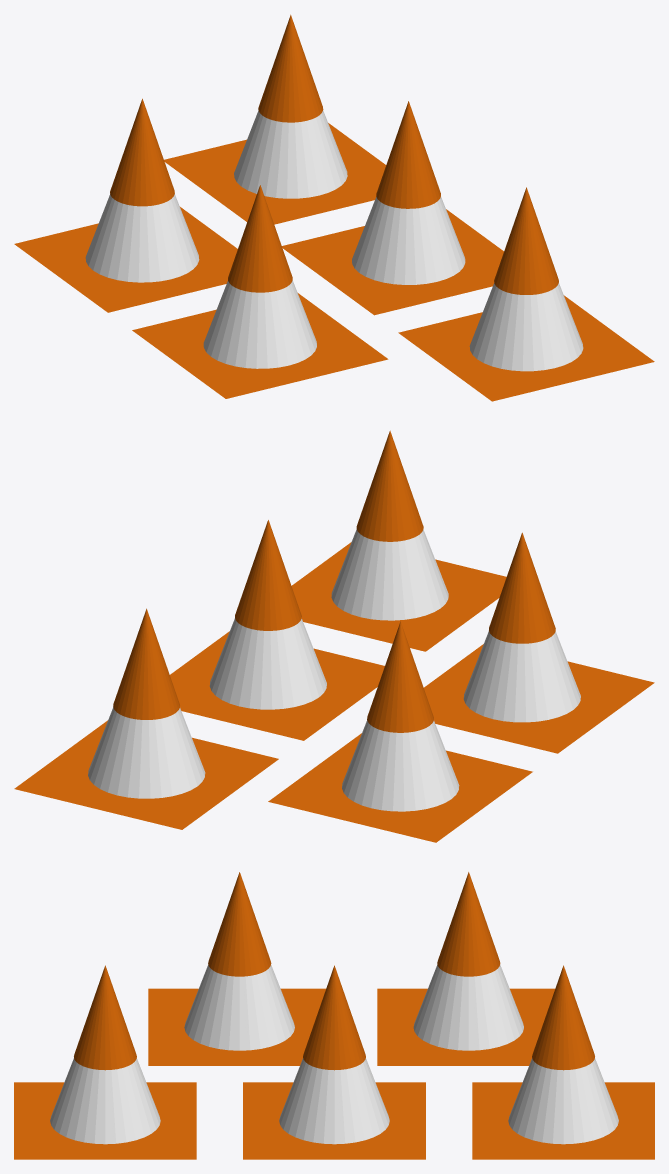
File: barricade 1.fbx
3 renders of one model, top to bottom at view 1: azimuth 30°, elevation 25°; view 2: azimuth 150°, elevation 25°; view 3: azimuth 270°, elevation 25°, orthographic. The views are drawn at different scales.
Visible parts, largest first — view 1: Plane.091, Plane.090, Plane.092, Plane.088, Cone.008, Cone.010, Cone.012, Cone.004, Cone.006, Plane.089, Cone.007, Cone.011 (+3 smaller); view 2: Plane.089, Plane.092, Plane.091, Plane.088, Plane.090, Cone.010, Cone.008, Cone.012, Cone.004, Cone.006, Cone.009, Cone.005 (+3 smaller); view 3: Plane.089, Plane.090, Plane.088, Plane.092, Plane.091, Cone.010, Cone.012, Cone.004, Cone.006, Cone.008, Cone.011, Cone.013 (+3 smaller).
Part boxes in pixels (left/top/right/bottom): Plane.091: left=132, top=293, right=388, bottom=398; Plane.090: left=398, top=295, right=654, bottom=401; Plane.092: left=14, top=207, right=237, bottom=312; Plane.088: left=282, top=209, right=503, bottom=315; Cone.008: left=469, top=283, right=583, bottom=371; Cone.010: left=203, top=280, right=316, bottom=368; Cone.012: left=85, top=194, right=199, bottom=282; Cone.004: left=352, top=197, right=465, bottom=284; Cone.006: left=234, top=110, right=347, bottom=198; Plane.089: left=164, top=123, right=386, bottom=224; Cone.007: left=258, top=14, right=323, bottom=122; Cone.011: left=228, top=185, right=292, bottom=292; Plane.089: left=14, top=720, right=278, bottom=829; Plane.092: left=268, top=733, right=532, bottom=842; Plane.091: left=424, top=644, right=654, bottom=753; Plane.088: left=170, top=631, right=384, bottom=740; Plane.090: left=291, top=542, right=506, bottom=651; Cone.010: left=463, top=631, right=580, bottom=722; Cone.008: left=331, top=529, right=448, bottom=620; Cone.012: left=342, top=720, right=459, bottom=811; Cone.004: left=209, top=618, right=326, bottom=709; Cone.006: left=88, top=707, right=205, bottom=798; Cone.009: left=356, top=430, right=423, bottom=541; Cone.005: left=235, top=520, right=301, bottom=630; Plane.089: left=472, top=1082, right=654, bottom=1159; Plane.090: left=14, top=1082, right=196, bottom=1159; Plane.088: left=243, top=1082, right=425, bottom=1159; Plane.092: left=377, top=988, right=554, bottom=1065; Plane.091: left=148, top=988, right=325, bottom=1065; Cone.010: left=184, top=965, right=294, bottom=1050; Cone.012: left=413, top=964, right=523, bottom=1050; Cone.004: left=279, top=1058, right=389, bottom=1144; Cone.006: left=508, top=1058, right=618, bottom=1144; Cone.008: left=50, top=1058, right=160, bottom=1144; Cone.011: left=208, top=872, right=271, bottom=976; Cone.013: left=437, top=872, right=500, bottom=976.
Size of the model in its own units: 271 by 115 by 430.
